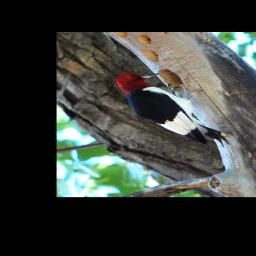Woodpecker: (118, 71, 233, 147)
